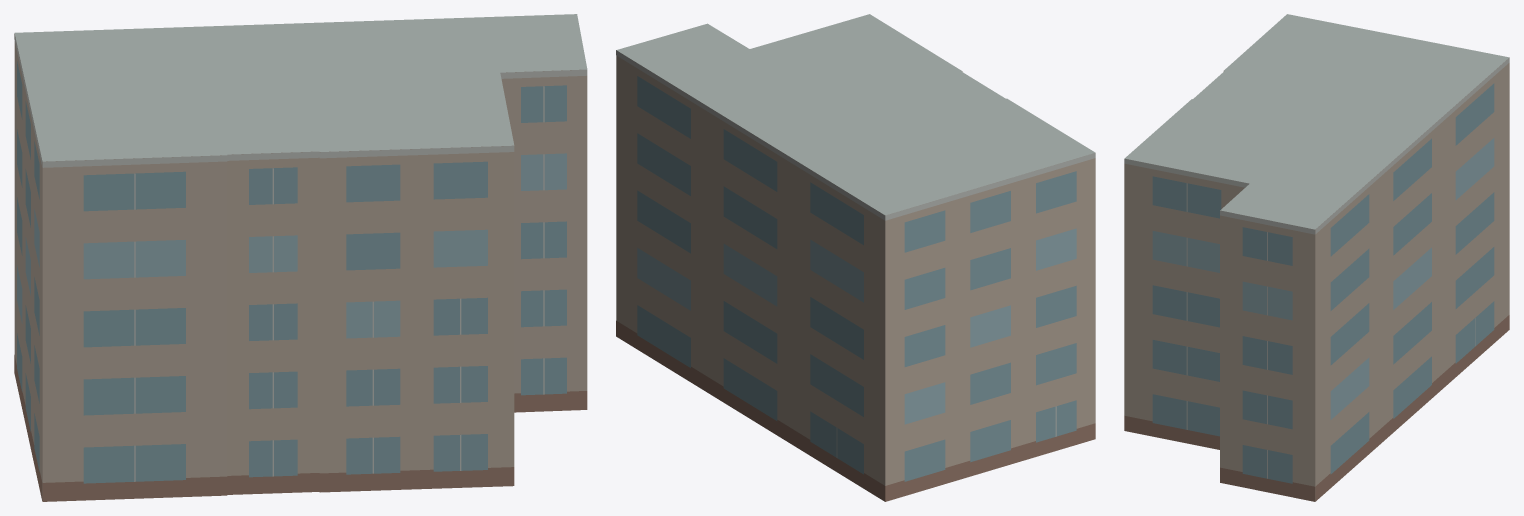
The model's file is survey-upis-32633822.glb.
The picture shows the model from 3 angles, left to right: view 1: azimuth 30°, elevation 25°; view 2: azimuth 150°, elevation 25°; view 3: azimuth 270°, elevation 25°; orthographic projection. The views are drawn at different scales.
Parts seen in each view (by area): view 1: survey-upis-32633822.tmp; view 2: survey-upis-32633822.tmp; view 3: survey-upis-32633822.tmp.
Boxes of the visible parts, x1=… form: survey-upis-32633822.tmp: x1=14, y1=14, x2=587, y2=501; survey-upis-32633822.tmp: x1=616, y1=14, x2=1095, y2=501; survey-upis-32633822.tmp: x1=1124, y1=14, x2=1509, y2=501.
Size of the model in its own units: 22.42 by 13.2 by 16.93.
